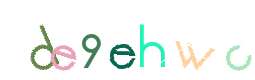9: (82, 0, 162, 80)
C: (152, 0, 232, 80)
D: (23, 0, 103, 80)
E: (28, 0, 108, 80), (88, 0, 168, 80)
H: (109, 0, 189, 80)
W: (139, 0, 219, 80)
